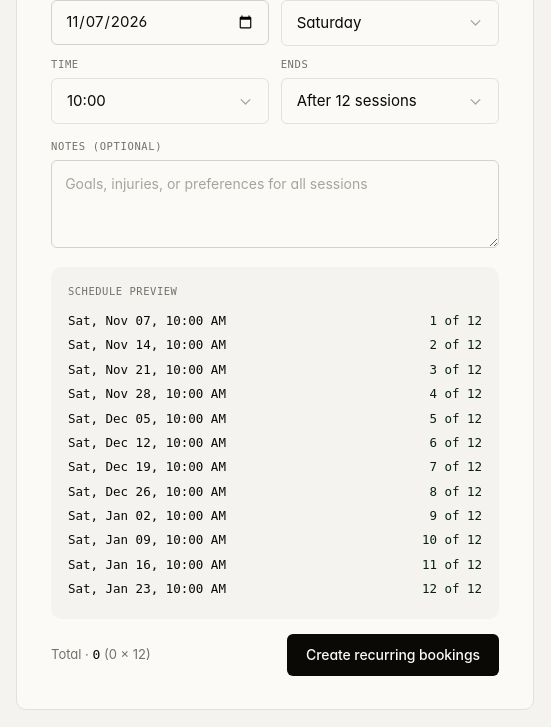
Test: recurring booking page › books at an open time from the first session's day and lists each occurrence the API refused
(page scrolled)
Click the button "Create recurring bookings". click: (393, 655)
box: x1=287 y1=634 x2=499 y2=676
(page scrolled)
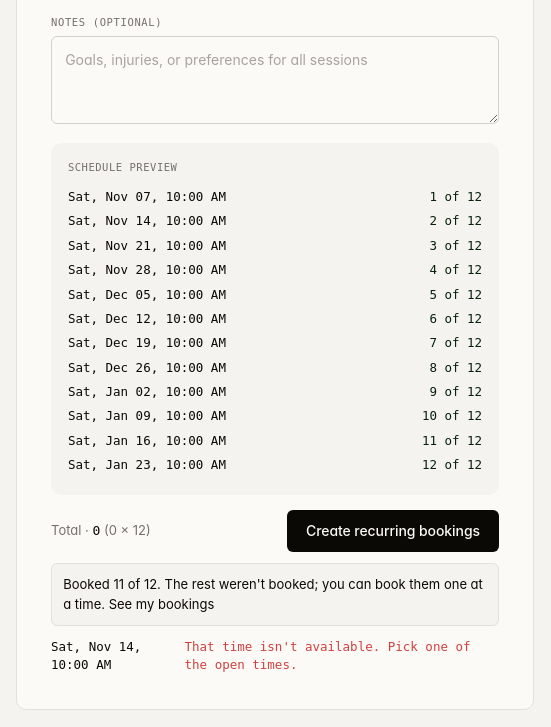
Result: the list with test id "recurring-failures" shows "That time isn't available. Pick one of the open times." at x1=184 y1=639 x2=470 y2=672
Result: the number of list items is 1 at x1=51 y1=638 x2=499 y2=675
Result: the text "Booked 11 of 12" is shown at x1=51 y1=563 x2=499 y2=626
